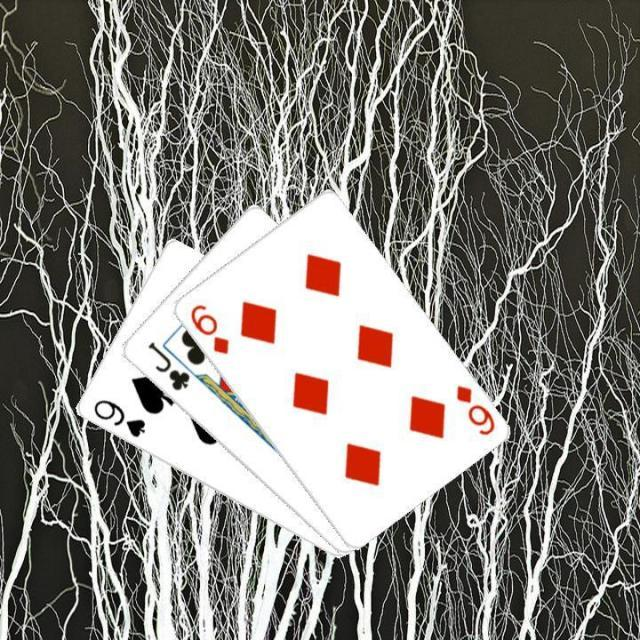6D: (451, 380, 497, 438), (186, 300, 230, 356)
9S: (89, 396, 147, 440)
JC: (143, 338, 192, 393)
